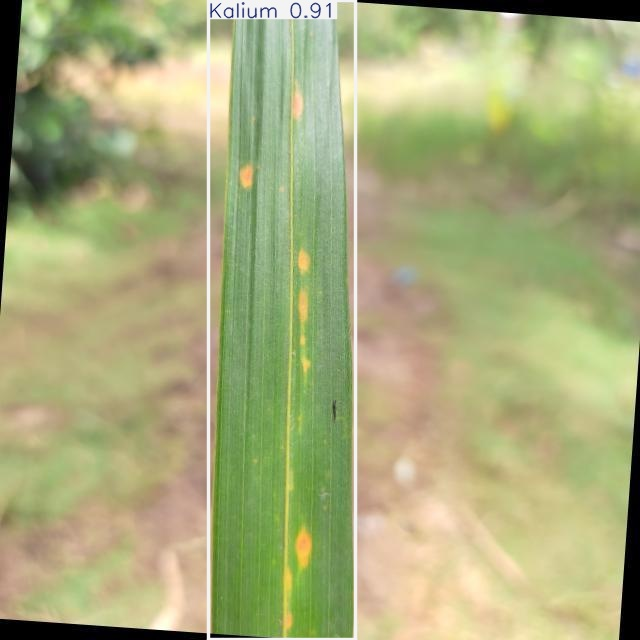Kalium: (209, 0, 356, 640)
